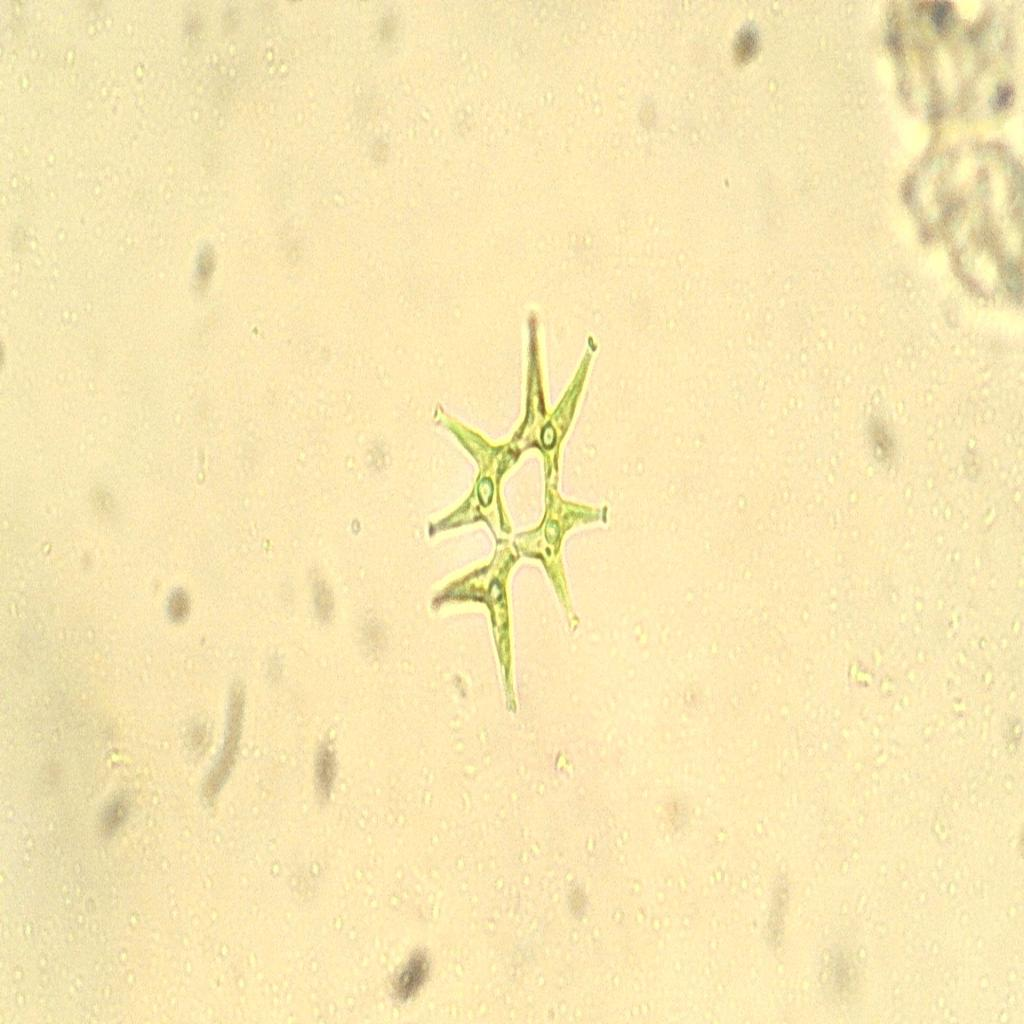Pediastrum_75FI: (419, 292, 617, 735)
